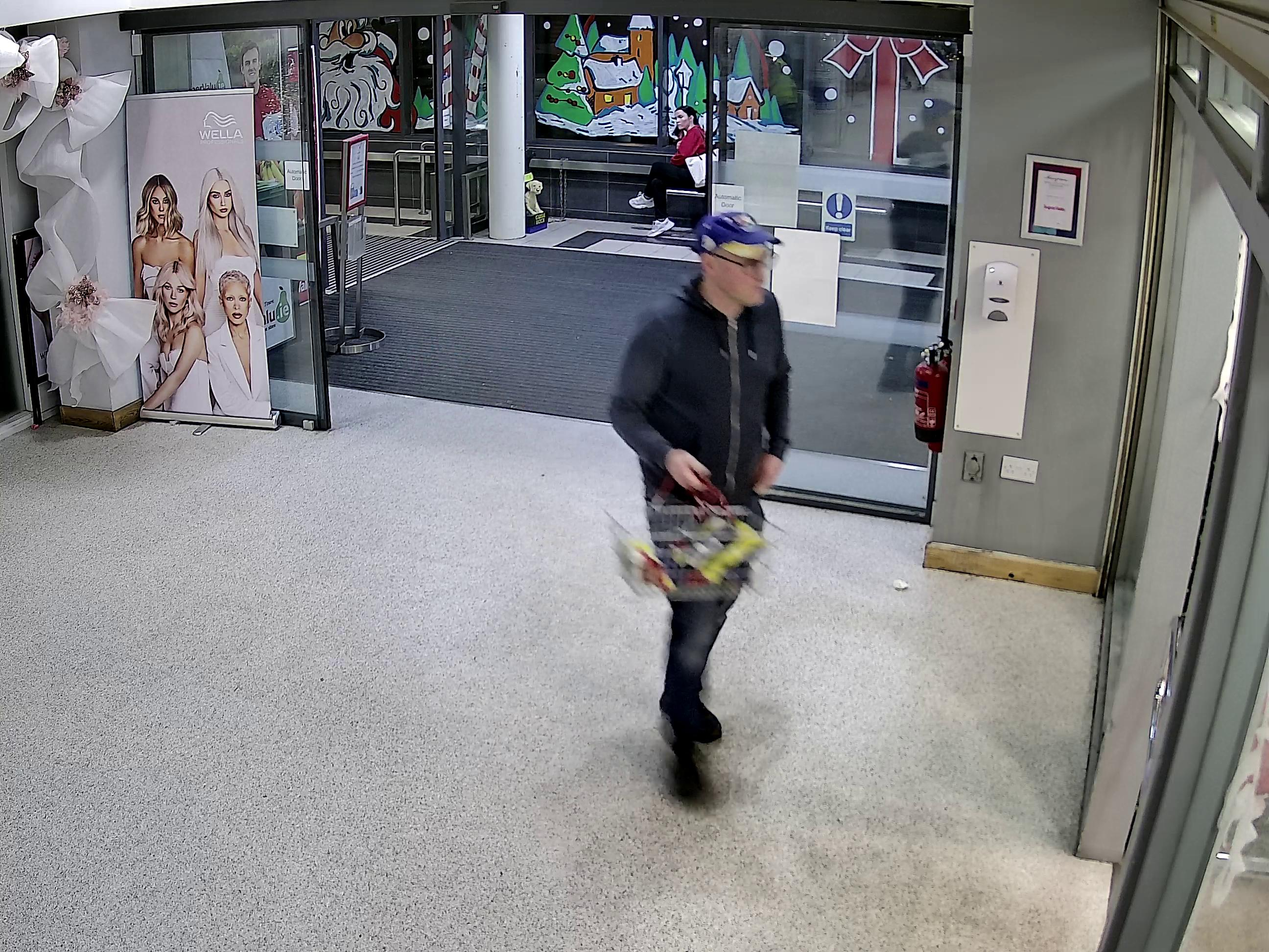person-with-empty-basket-trolly: (603, 497, 785, 603)
